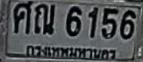1: (88, 7, 97, 36)
5: (101, 7, 117, 38)
6: (65, 5, 81, 35), (119, 9, 135, 38)
A19: (34, 3, 54, 34)
A38: (13, 0, 32, 33)
BKK: (24, 43, 120, 61)
